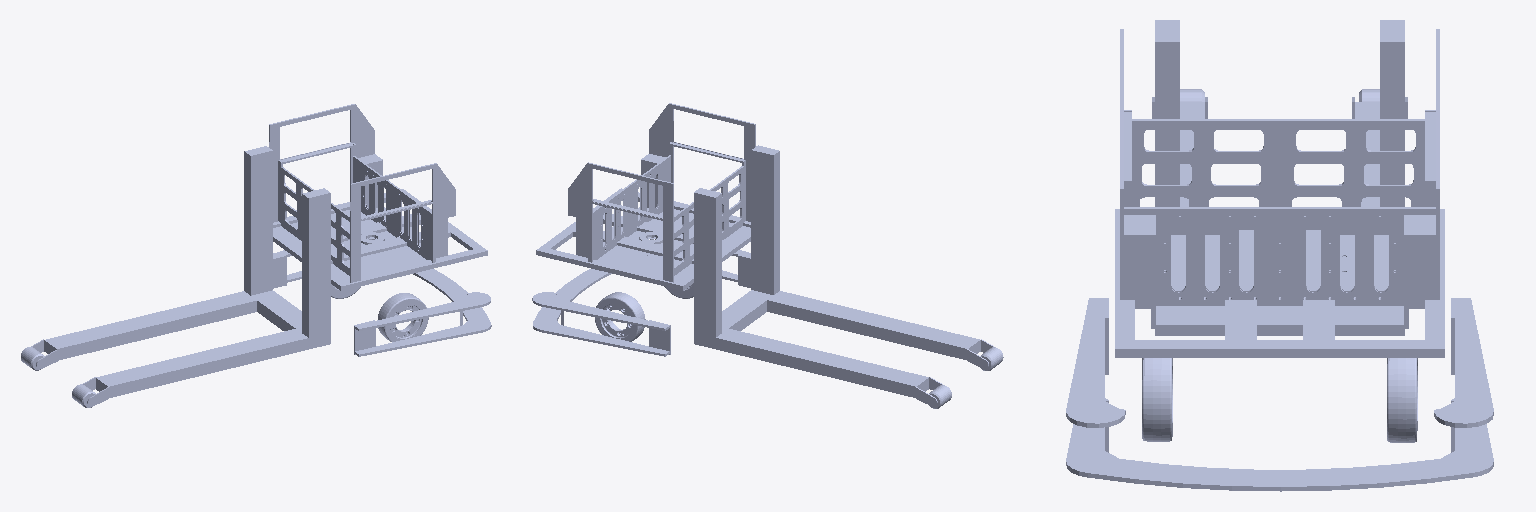
The robot description file, URDF, robot "testmodel1_bot":
<?xml version="1.0" encoding="utf-8"?>
<!-- This URDF was automatically created by SolidWorks to URDF Exporter! Originally created by [author] ([email redacted]) 
     Commit Version: 1.6.0-4-g7f85cfe  Build Version: 1.6.7995.38578
     For more information, please see http://wiki.ros.org/sw_urdf_exporter -->
<robot
  name="testmodel1_bot">
  <link
    name="base_footprint">
    <inertial>
      <origin
        xyz="0 -5.55111512312578E-17 0.0149999999999967"
        rpy="0 0 0" />
      <mass
        value="9.42477796076939E-05" />
      <inertia
        ixx="7.09214541547897E-09"
        ixy="1.00735059810377E-56"
        ixz="-2.73196242009685E-42"
        iyy="7.09214541547897E-09"
        iyz="2.5490393388945E-23"
        izz="4.71238898038469E-11" />
    </inertial>
    <visual>
      <origin
        xyz="0 0 0"
        rpy="0 0 0" />
      <geometry>
        <mesh
          filename="package://testmodel1_bot/meshes/base_footprint.STL" />
      </geometry>
      <material
        name="">
        <color
          rgba="0.792156862745098 0.819607843137255 0.933333333333333 1" />
      </material>
    </visual>
    <collision>
      <origin
        xyz="0 0 0"
        rpy="0 0 0" />
      <geometry>
        <mesh
          filename="package://testmodel1_bot/meshes/base_footprint.STL" />
      </geometry>
    </collision>
  </link>

<!-- BASE LINK -->

  <link
    name="base_link">
    <inertial>
      <origin
        xyz="0.00110889528035857 3.32856412571525E-08 0.0122235365886293"
        rpy="0 0 0" />
      <mass
        value="5.90109462666403" />
      <inertia
        ixx="0.0605687229859031"
        ixy="5.32641028548201E-05"
        ixz="-0.00120576231798794"
        iyy="0.0618059522627473"
        iyz="-3.09471532688774E-05"
        izz="0.0181880890760583" />
    </inertial>
    <visual>
      <origin
        xyz="0 0 0"
        rpy="0 0 0" />
      <geometry>
        <mesh
          filename="package://testmodel1_bot/meshes/base_link.STL" />
      </geometry>
      <material
        name="">
        <color
          rgba="0.792156862745098 0.819607843137255 0.933333333333333 1" />
      </material>
    </visual>
    <collision>
      <origin
        xyz="0 0 0"
        rpy="0 0 0" />
      <geometry>
        <mesh
          filename="package://testmodel1_bot/meshes/base_link.STL" />
      </geometry>
    </collision>
  </link>

  <joint
    name="base_joint"
    type="fixed">
    <origin
      xyz="0 0 0.21"
      rpy="0 0 0" />
    <parent
      link="base_footprint" />
    <child
      link="base_link" />
    <axis
      xyz="0 0 0" />
  </joint>

<!-- LEFT WHEEL LINK -->

  <link
    name="l_wheel_link">
    <inertial>
      <origin
        xyz="-0.000214794745956287 5.48698586566587E-09 0.0211659275131799"
        rpy="0 0 0" />
      <mass
        value="1.21637660223565" />
      <inertia
        ixx="0.0044425512714785"
        ixy="1.3003204986114E-06"
        ixz="-3.83894161637747E-05"
        iyy="0.00444401827630389"
        iyz="1.32248253372999E-08"
        izz="0.00822535307271289" />
    </inertial>
    <visual>
      <origin
        xyz="0 0 0"
        rpy="0 0 0" />
      <geometry>
        <mesh
          filename="package://testmodel1_bot/meshes/l_wheel_link.STL" />
      </geometry>
      <material
        name="">
        <color
          rgba="0.792156862745098 0.819607843137255 0.933333333333333 1" />
      </material>
    </visual>
    <collision>
      <origin
        xyz="0 0 0"
        rpy="0 0 0" />
      <geometry>
        <mesh
          filename="package://testmodel1_bot/meshes/l_wheel_link.STL" />
      </geometry>
    </collision>
  </link>

  <joint
    name="l_wheel_joint"
    type="continuous">
    <origin
      xyz="0.0027041 0.26649 -0.11"
      rpy="1.5708 0 0" />
    <parent
      link="base_link" />
    <child
      link="l_wheel_link" />
    <axis
      xyz="-0.010147 0 0.99995" />
    <dynamics
      friction="1000" />
  </joint>

<!-- RIGHT WHEEL LINK -->

  <link
    name="r_wheel_link">
    <inertial>
      <origin
        xyz="0.000214762370090937 1.65109662053631E-08 -0.0211659265973297"
        rpy="0 0 0" />
      <mass
        value="1.21637691245054" />
      <inertia
        ixx="0.00444196297902202"
        ixy="4.92534166186147E-07"
        ixz="-3.83952491823509E-05"
        iyy="0.0044446070225373"
        iyz="4.92329215345832E-09"
        izz="0.00822535339679518" />
    </inertial>
    <visual>
      <origin
        xyz="0 0 0"
        rpy="0 0 0" />
      <geometry>
        <mesh
          filename="package://testmodel1_bot/meshes/r_wheel_link.STL" />
      </geometry>
      <material
        name="">
        <color
          rgba="0.792156862745098 0.819607843137255 0.933333333333333 1" />
      </material>
    </visual>
    <collision>
      <origin
        xyz="0 0 0"
        rpy="0 0 0" />
      <geometry>
        <mesh
          filename="package://testmodel1_bot/meshes/r_wheel_link.STL" />
      </geometry>
    </collision>
  </link>

  <joint
    name="r_wheel_joint"
    type="continuous">
    <origin
      xyz="-0.0027041 -0.26649 -0.11"
      rpy="1.5708 0 0" />
    <parent
      link="base_link" />
    <child
      link="r_wheel_link" />
    <axis
      xyz="0.010147 0 0.99995" />
    <dynamics
      friction="1000" />
  </joint>

<!-- LASER LINK -->

  <link
    name="laser_link">
    <inertial>
      <origin
        xyz="2.77555756156289E-17 1.11022302462516E-16 -0.0394999999999996"
        rpy="0 0 0" />
      <mass
        value="0.39709731141375" />
      <inertia
        ixx="0.000365362617943268"
        ixy="1.63132611699963E-51"
        ixz="-1.21245706409418E-36"
        iyy="0.000365362617943268"
        iyz="1.53831787512682E-19"
        izz="0.000317677849131001" />
    </inertial>
    <visual>
      <origin
        xyz="0 0 0"
        rpy="0 0 0" />
      <geometry>
        <mesh
          filename="package://testmodel1_bot/meshes/laser_link.STL" />
      </geometry>
      <material
        name="">
        <color
          rgba="0.792156862745098 0.819607843137255 0.933333333333333 1" />
      </material>
    </visual>
    <collision>
      <origin
        xyz="0 0 0"
        rpy="0 0 0" />
      <geometry>
        <mesh
          filename="package://testmodel1_bot/meshes/laser_link.STL" />
      </geometry>
    </collision>
  </link>

  <joint
    name="laser_joint"
    type="fixed">
    <origin
      xyz="0 0 0.747"
      rpy="0 0 0" />
    <parent
      link="base_link" />
    <child
      link="laser_link" />
    <axis
      xyz="0 0 0" />
  </joint>

<!-- FORK LINK  -->

  <link
    name="fork_link">
    <inertial>
      <origin
        xyz="-0.426079479774614 0.000229163206949087 -0.0856509412664259"
        rpy="0 0 0" />
      <mass
        value="26.6907913676592" />
      <inertia
        ixx="1.9864898873301"
        ixy="0.000356816119489908"
        ixz="-0.742877382061149"
        iyy="3.95317442770864"
        iyz="-0.000630357330742534"
        izz="4.52285242374727" />
    </inertial>
    <visual>
      <origin
        xyz="0 0 0"
        rpy="0 0 0" />
      <geometry>
        <mesh
          filename="package://testmodel1_bot/meshes/fork_link.STL" />
      </geometry>
      <material
        name="">
        <color
          rgba="0.792156862745098 0.819607843137255 0.933333333333333 1" />
      </material>
    </visual>
    <collision>
      <origin
        xyz="0 0 0"
        rpy="0 0 0" />
      <geometry>
        <mesh
          filename="package://testmodel1_bot/meshes/fork_link.STL" />
      </geometry>
    </collision>
  </link>

  <joint
    name="fork_joint"
    type="revolute">
    <origin
      xyz="0 0 0.12"
      rpy="0 0 0" />
    <parent
      link="base_link" />
    <child
      link="fork_link" />
    <axis
      xyz="0 0 -1" />
    <limit
      lower="-0.8"
      upper="0.8"
      effort="0"
      velocity="0" />
  </joint>

<!-- LEFT ROLLER LINK -->

  <link
    name="l_roller_link">
    <inertial>
      <origin
        xyz="-2.22044604925031E-16 0.0450000000000001 3.33066907387547E-16"
        rpy="0 0 0" />
      <mass
        value="0.312850268419892" />
      <inertia
        ixx="0.00030732466509109"
        ixy="2.89980939286399E-19"
        ixz="-2.96113023018065E-21"
        iyy="0.000204892709371601"
        iyz="2.13941993630715E-19"
        izz="0.00030732466509109" />
    </inertial>
    <visual>
      <origin
        xyz="0 0 0"
        rpy="0 0 0" />
      <geometry>
        <mesh
          filename="package://testmodel1_bot/meshes/l_roller_link.STL" />
      </geometry>
      <material
        name="">
        <color
          rgba="0.792156862745098 0.819607843137255 0.933333333333333 1" />
      </material>
    </visual>
    <collision>
      <origin
        xyz="0 0 0"
        rpy="0 0 0" />
      <geometry>
        <mesh
          filename="package://testmodel1_bot/meshes/l_roller_link.STL" />
      </geometry>
    </collision>
  </link>

  <joint
    name="l_roller_joint"
    type="continuous">
    <origin
      xyz="-1.405 0.159 -0.255"
      rpy="0 0 0" />
    <parent
      link="fork_link" />
    <child
      link="l_roller_link" />
    <axis
      xyz="0 1 0" />
    <dynamics
      friction="0.1" />
  </joint>

<!-- RIGHT ROLLER LINK -->

  <link
    name="r_roller_link">
    <inertial>
      <origin
        xyz="2.22044604925031E-16 -0.0449999999999999 3.33066907387547E-16"
        rpy="0 0 0" />
      <mass
        value="0.312850268419892" />
      <inertia
        ixx="0.000307324665091091"
        ixy="2.88075115155077E-19"
        ixz="-2.72716822202004E-21"
        iyy="0.000204892709371601"
        iyz="1.81979734761666E-19"
        izz="0.000307324665091091" />
    </inertial>
    <visual>
      <origin
        xyz="0 0 0"
        rpy="0 0 0" />
      <geometry>
        <mesh
          filename="package://testmodel1_bot/meshes/r_roller_link.STL" />
      </geometry>
      <material
        name="">
        <color
          rgba="0.792156862745098 0.819607843137255 0.933333333333333 1" />
      </material>
    </visual>
    <collision>
      <origin
        xyz="0 0 0"
        rpy="0 0 0" />
      <geometry>
        <mesh
          filename="package://testmodel1_bot/meshes/r_roller_link.STL" />
      </geometry>
    </collision>
  </link>

  <joint
    name="r_roller_joint"
    type="continuous">
    <origin
      xyz="-1.405 -0.151 -0.255"
      rpy="0 0 0" />
    <parent
      link="fork_link" />
    <child
      link="r_roller_link" />
    <axis
      xyz="0 1 0" />
    <dynamics
      friction="0.1" />
  </joint>

  <!-- GAZEBO PLUGINS -->

  <gazebo reference="laser_link">
    <material>Gazebo/FlatBlack</material>
    <sensor type="ray" name="lds_lfcd_sensor">
      <pose>0 0 0 0 0 0</pose>
      <visualize>true</visualize>
      <update_rate>5</update_rate>
      <ray>
        <scan>
          <horizontal>
            <samples>760</samples>
            <resolution>1</resolution>
            <min_angle>0.0</min_angle>
            <max_angle>6.28319</max_angle>
          </horizontal>
        </scan>
        <range>
          <min>0.120</min>
          <max>3.5</max>
          <resolution>0.015</resolution>
        </range>
        <noise>
          <type>gaussian</type>
          <mean>0.0</mean>
          <stddev>0.01</stddev>
        </noise>
      </ray>
      <plugin name="gazebo_ros_lds_lfcd_controller" filename="libgazebo_ros_laser.so">
        <topicName>scan</topicName>
        <frameName>laser_link</frameName>
      </plugin>
    </sensor>
  </gazebo>

<gazebo>
  <plugin name="differential_drive_controller" filename="libgazebo_ros_diff_drive.so">

    <!-- Plugin update rate in Hz -->
    <updateRate>10</updateRate>

    <!-- Name of left joint, defaults to `left_joint` -->
    <leftJoint>l_wheel_joint</leftJoint>

    <!-- Name of right joint, defaults to `right_joint` -->
    <rightJoint>r_wheel_joint</rightJoint>

    <!-- The distance from the center of one wheel to the other, in meters, defaults to 0.34 m -->
    <wheelSeparation>0.5380</wheelSeparation>

    <!-- Diameter of the wheels, in meters, defaults to 0.15 m -->
    <wheelDiameter>0.2410</wheelDiameter>

    <!-- Wheel acceleration, in rad/s^2, defaults to 0.0 rad/s^2 -->
    <wheelAcceleration>1.0</wheelAcceleration>

    <!-- Maximum torque which the wheels can produce, in Nm, defaults to 5 Nm -->
    <wheelTorque>20</wheelTorque>

    <!-- Topic to receive geometry_msgs/Twist message commands, defaults to `cmd_vel` -->
    <commandTopic>cmd_vel</commandTopic>

    <!-- Topic to publish nav_msgs/Odometry messages, defaults to `odom` -->
    <odometryTopic>odom</odometryTopic>

    <!-- Odometry frame, defaults to `odom` -->
    <odometryFrame>odom</odometryFrame>

    <!-- Robot frame to calculate odometry from, defaults to `base_footprint` -->
    <robotBaseFrame>base_link</robotBaseFrame>

    <!-- Odometry source, 0 for ENCODER, 1 for WORLD, defaults to WORLD -->
    <odometrySource>1</odometrySource>

    <!-- Set to true to publish transforms for the wheel links, defaults to false -->
    <publishWheelTF>false</publishWheelTF>

    <!-- Set to true to publish transforms for the odometry, defaults to true -->
    <publishOdom>true</publishOdom>

    <!-- Set to true to publish sensor_msgs/JointState on /joint_states for the wheel joints, defaults to false -->
    <publishWheelJointState>false</publishWheelJointState>

    <!-- Set to true to swap right and left wheels, defaults to true -->
    <legacyMode>false</legacyMode>
  </plugin>
</gazebo>

</robot>

--- Render facts (derived) ---
The picture shows the robot from 3 angles, left to right: view 1: azimuth 30°, elevation 25°; view 2: azimuth 150°, elevation 25°; view 3: azimuth 270°, elevation 25°; orthographic projection.
Model testmodel1_bot with 8 links and 7 joints (1 revolute, 4 continuous, 2 fixed), rooted at base_footprint, posed all joints at 0.
Visible links, largest first — view 1: fork_link, r_wheel_link; view 2: fork_link, l_wheel_link; view 3: fork_link, l_wheel_link, r_wheel_link.
Boxes of the visible links, x1,y1,x2,y2 form: fork_link: (31, 104, 491, 406); r_wheel_link: (378, 293, 428, 341); fork_link: (532, 103, 1001, 406); l_wheel_link: (595, 292, 645, 341); fork_link: (1066, 20, 1493, 491); l_wheel_link: (1387, 358, 1417, 442); r_wheel_link: (1142, 358, 1172, 441).
Bounding box of the posed robot: 1.82 × 0.8562 × 0.7729 m (x, y, z).
Meshes: 8 distinct files referenced, 6 mesh visuals loaded (6 binary STL); not drawn: 2 (reference not matched to a file when rendering).
